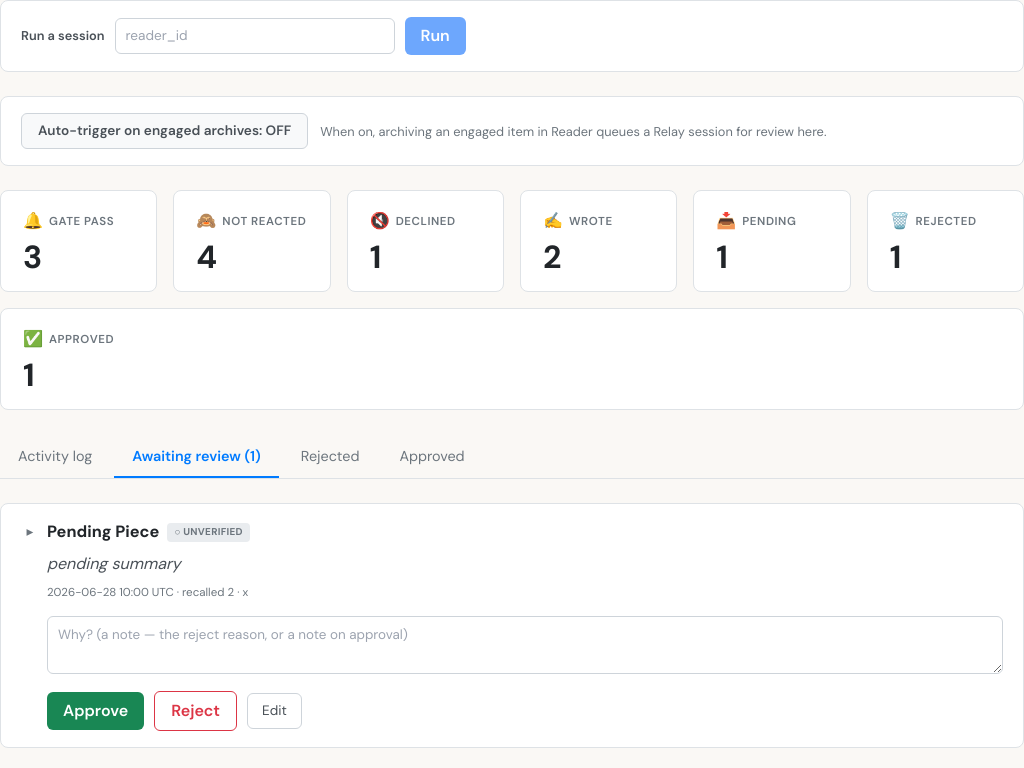
Test: RelayAgent › expands a collapsed piece to reveal its body
The image size is (1024, 768).
Expected: the text "pending summary body text here" is not shown
Click the button named "expand" at (30, 532), box [21,522,39,542]
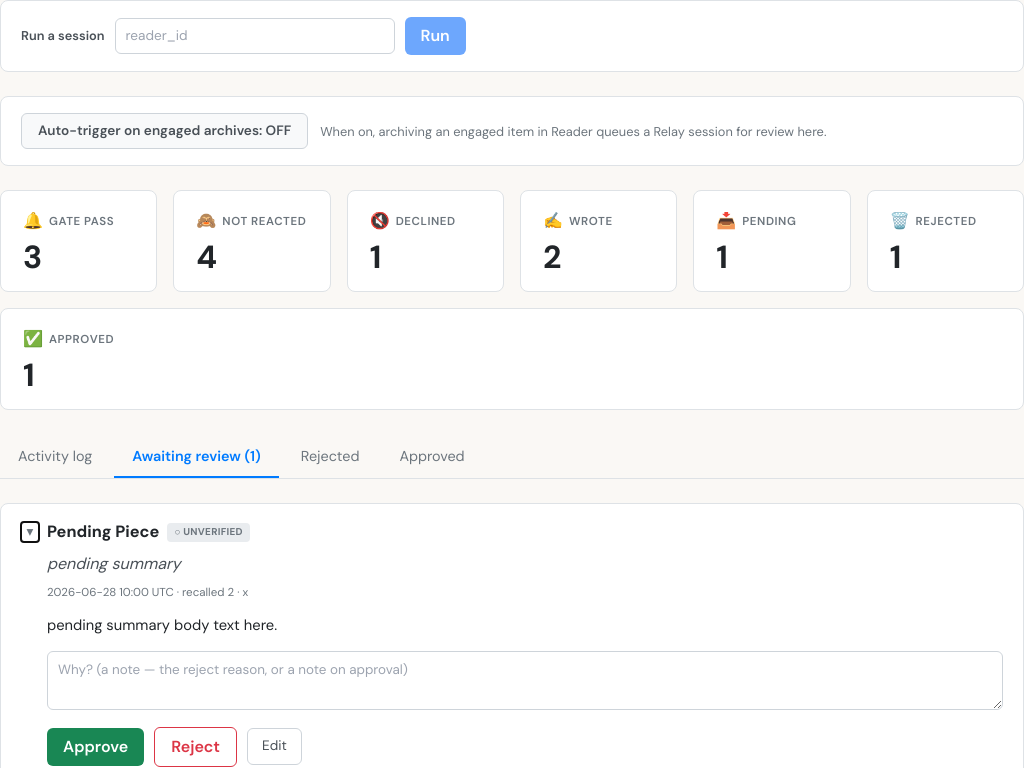
Expected: the text "pending summary body text here." is shown, [47,615,277,635]
